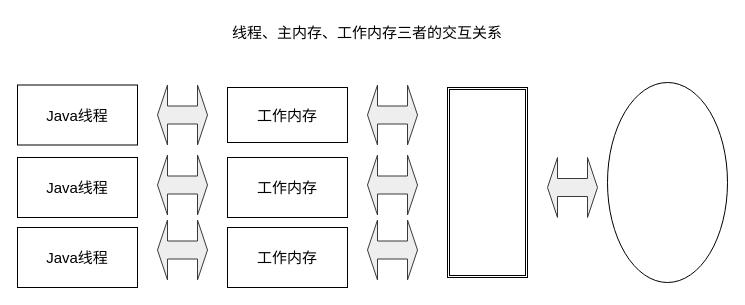
Image size: 745x305. Some labels were removed from this diagram. The box of each missing label's shape, as (x1, y1, x2, y2) in pixels:
save 和 Load 操作: (446, 86, 528, 278)
主内存: (606, 82, 728, 282)
